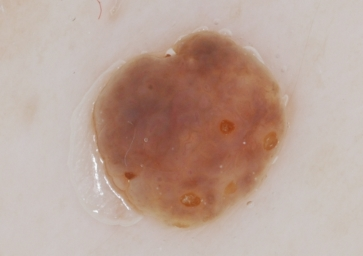seborrheic keratosis: (71, 21, 294, 239)
